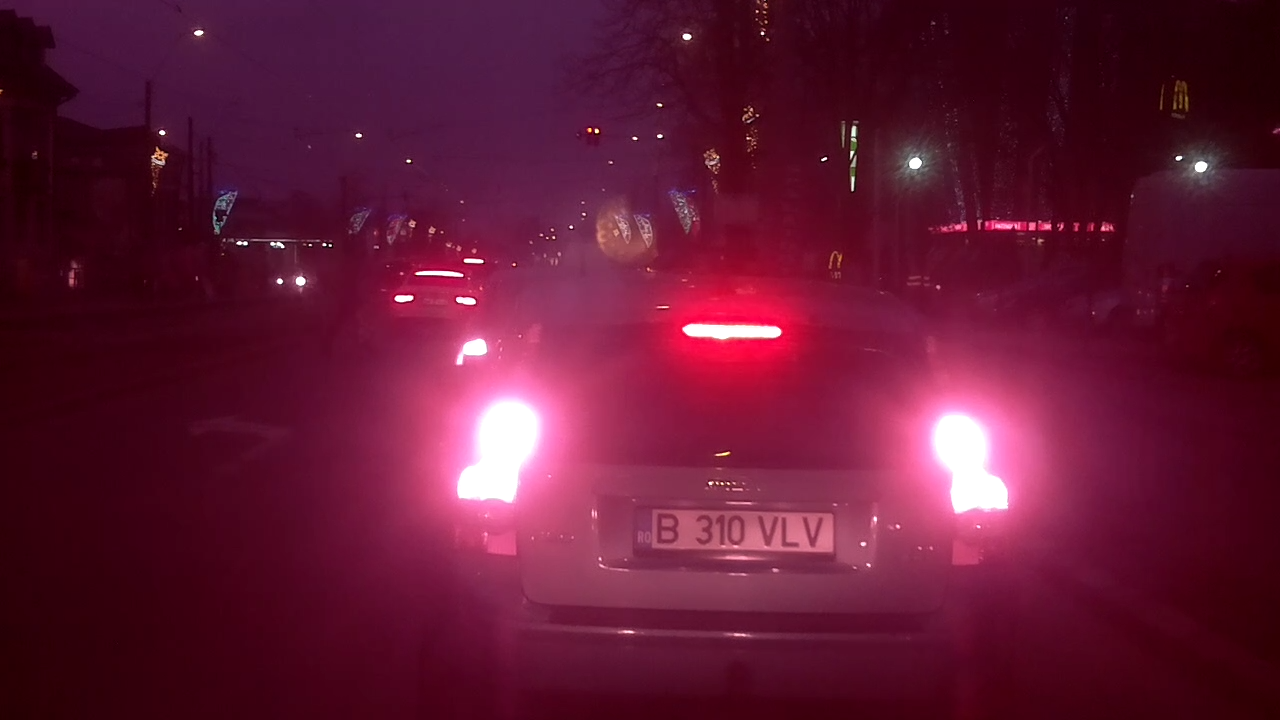license-plate: (621, 497, 843, 561)
